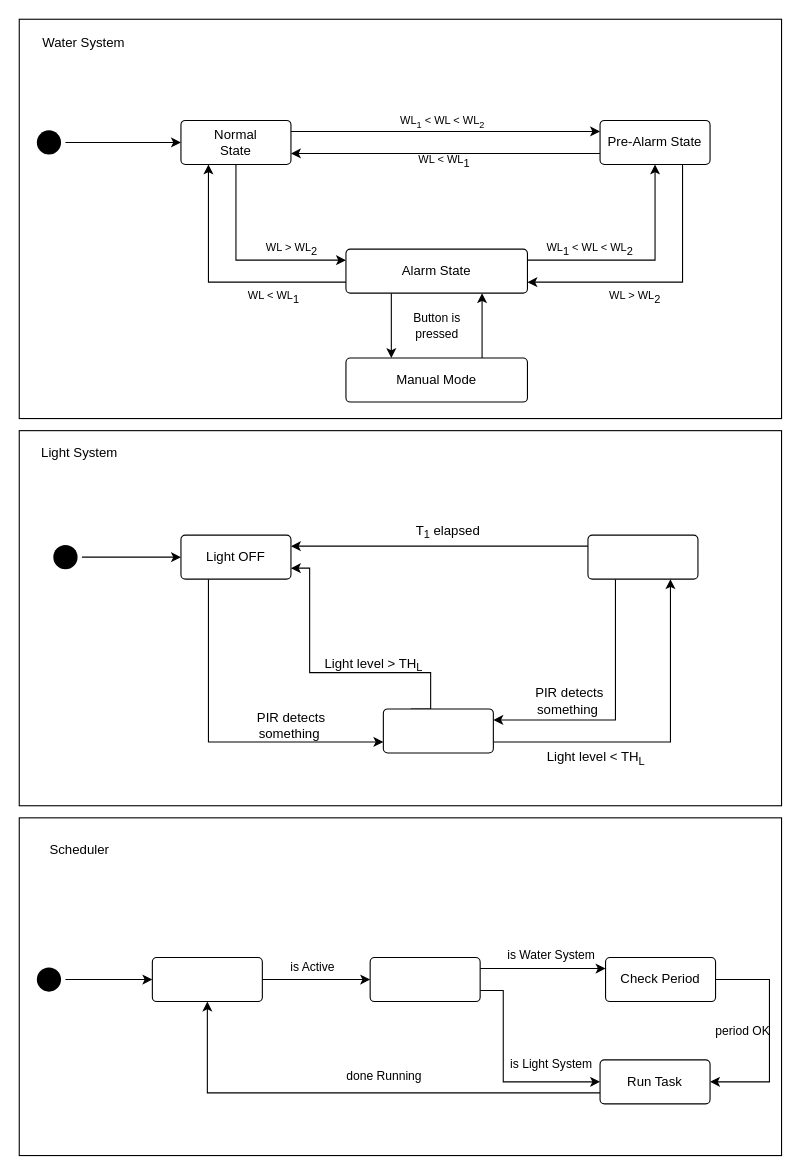
Some shapes in this 801 by 1175 pixel diagram are drawn without their labels. The shapes that lost their labels are listed below. From the top down, each one's centre as x and y in pixels, then its label:
At point (642, 556): "Light ON".
At point (437, 730): "Someone is there".
At point (206, 979): "Check next Task State".
At point (424, 979): "Check which task".
